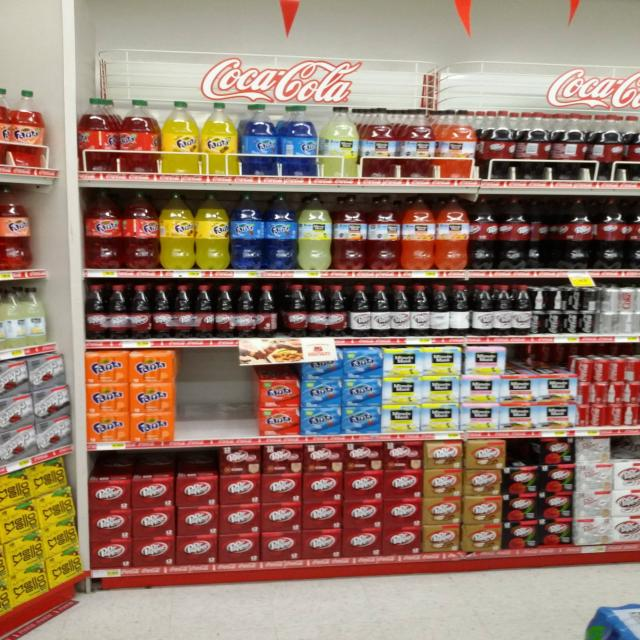empty: (179, 345, 252, 439)
